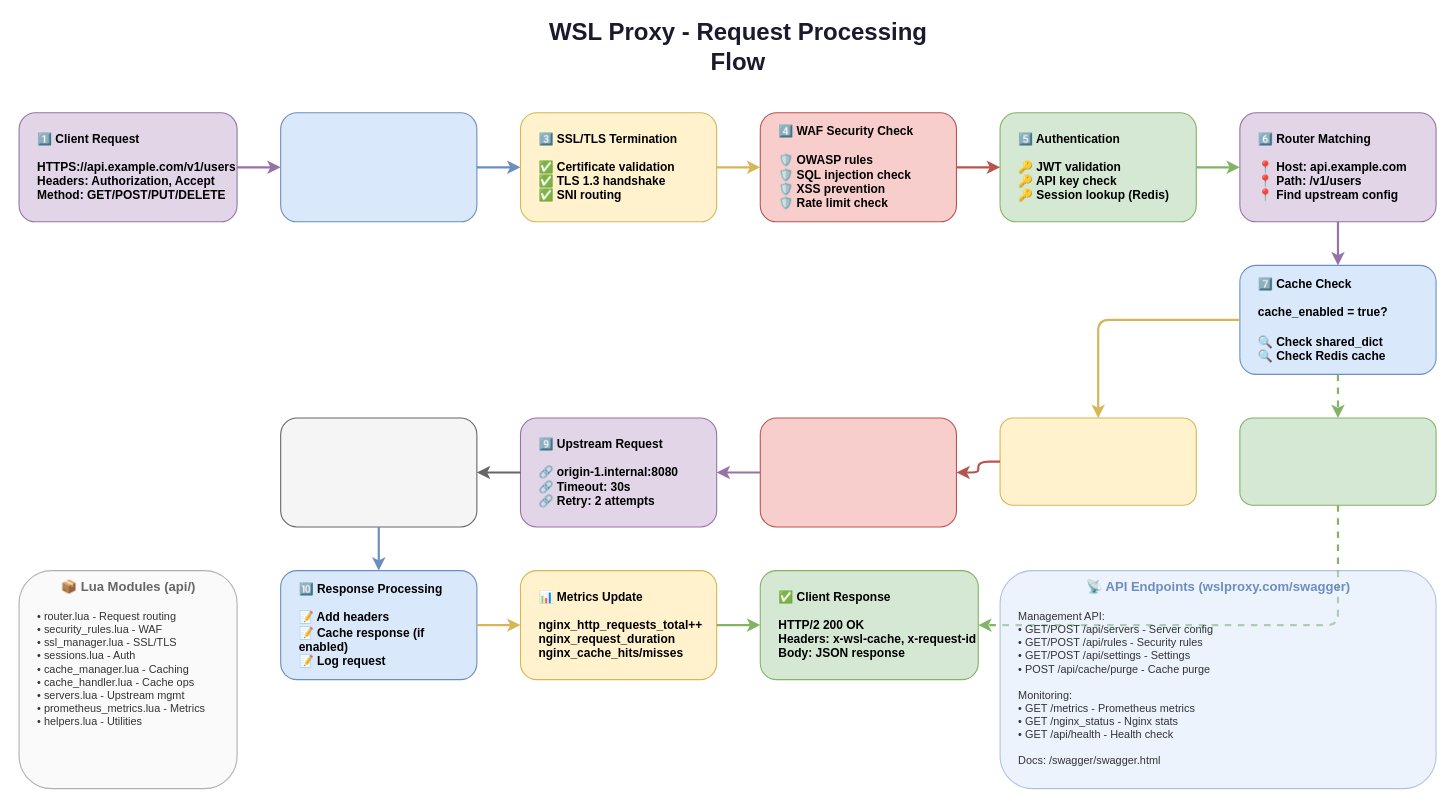
This 1455x808 diagram has some shape labels left out. Each missing label, with the box of its shape:
2️⃣ DNS Resolution api.example.com → WSL Proxy IP (via wslproxy.com): (280, 112, 477, 222)
8️⃣ Load Balancer ⚖️ Select backend ⚖️ Health check status ⚖️ Weighted routing: (759, 417, 956, 527)
⚡ CACHE HIT Return cached response Header: x-wsl-cache: HIT: (1239, 417, 1436, 505)
🏢 Origin Server Process request Execute business logic Return response: (280, 417, 477, 527)
💨 CACHE MISS Proceed to upstream Header: x-wsl-cache: MISS: (999, 417, 1196, 505)
